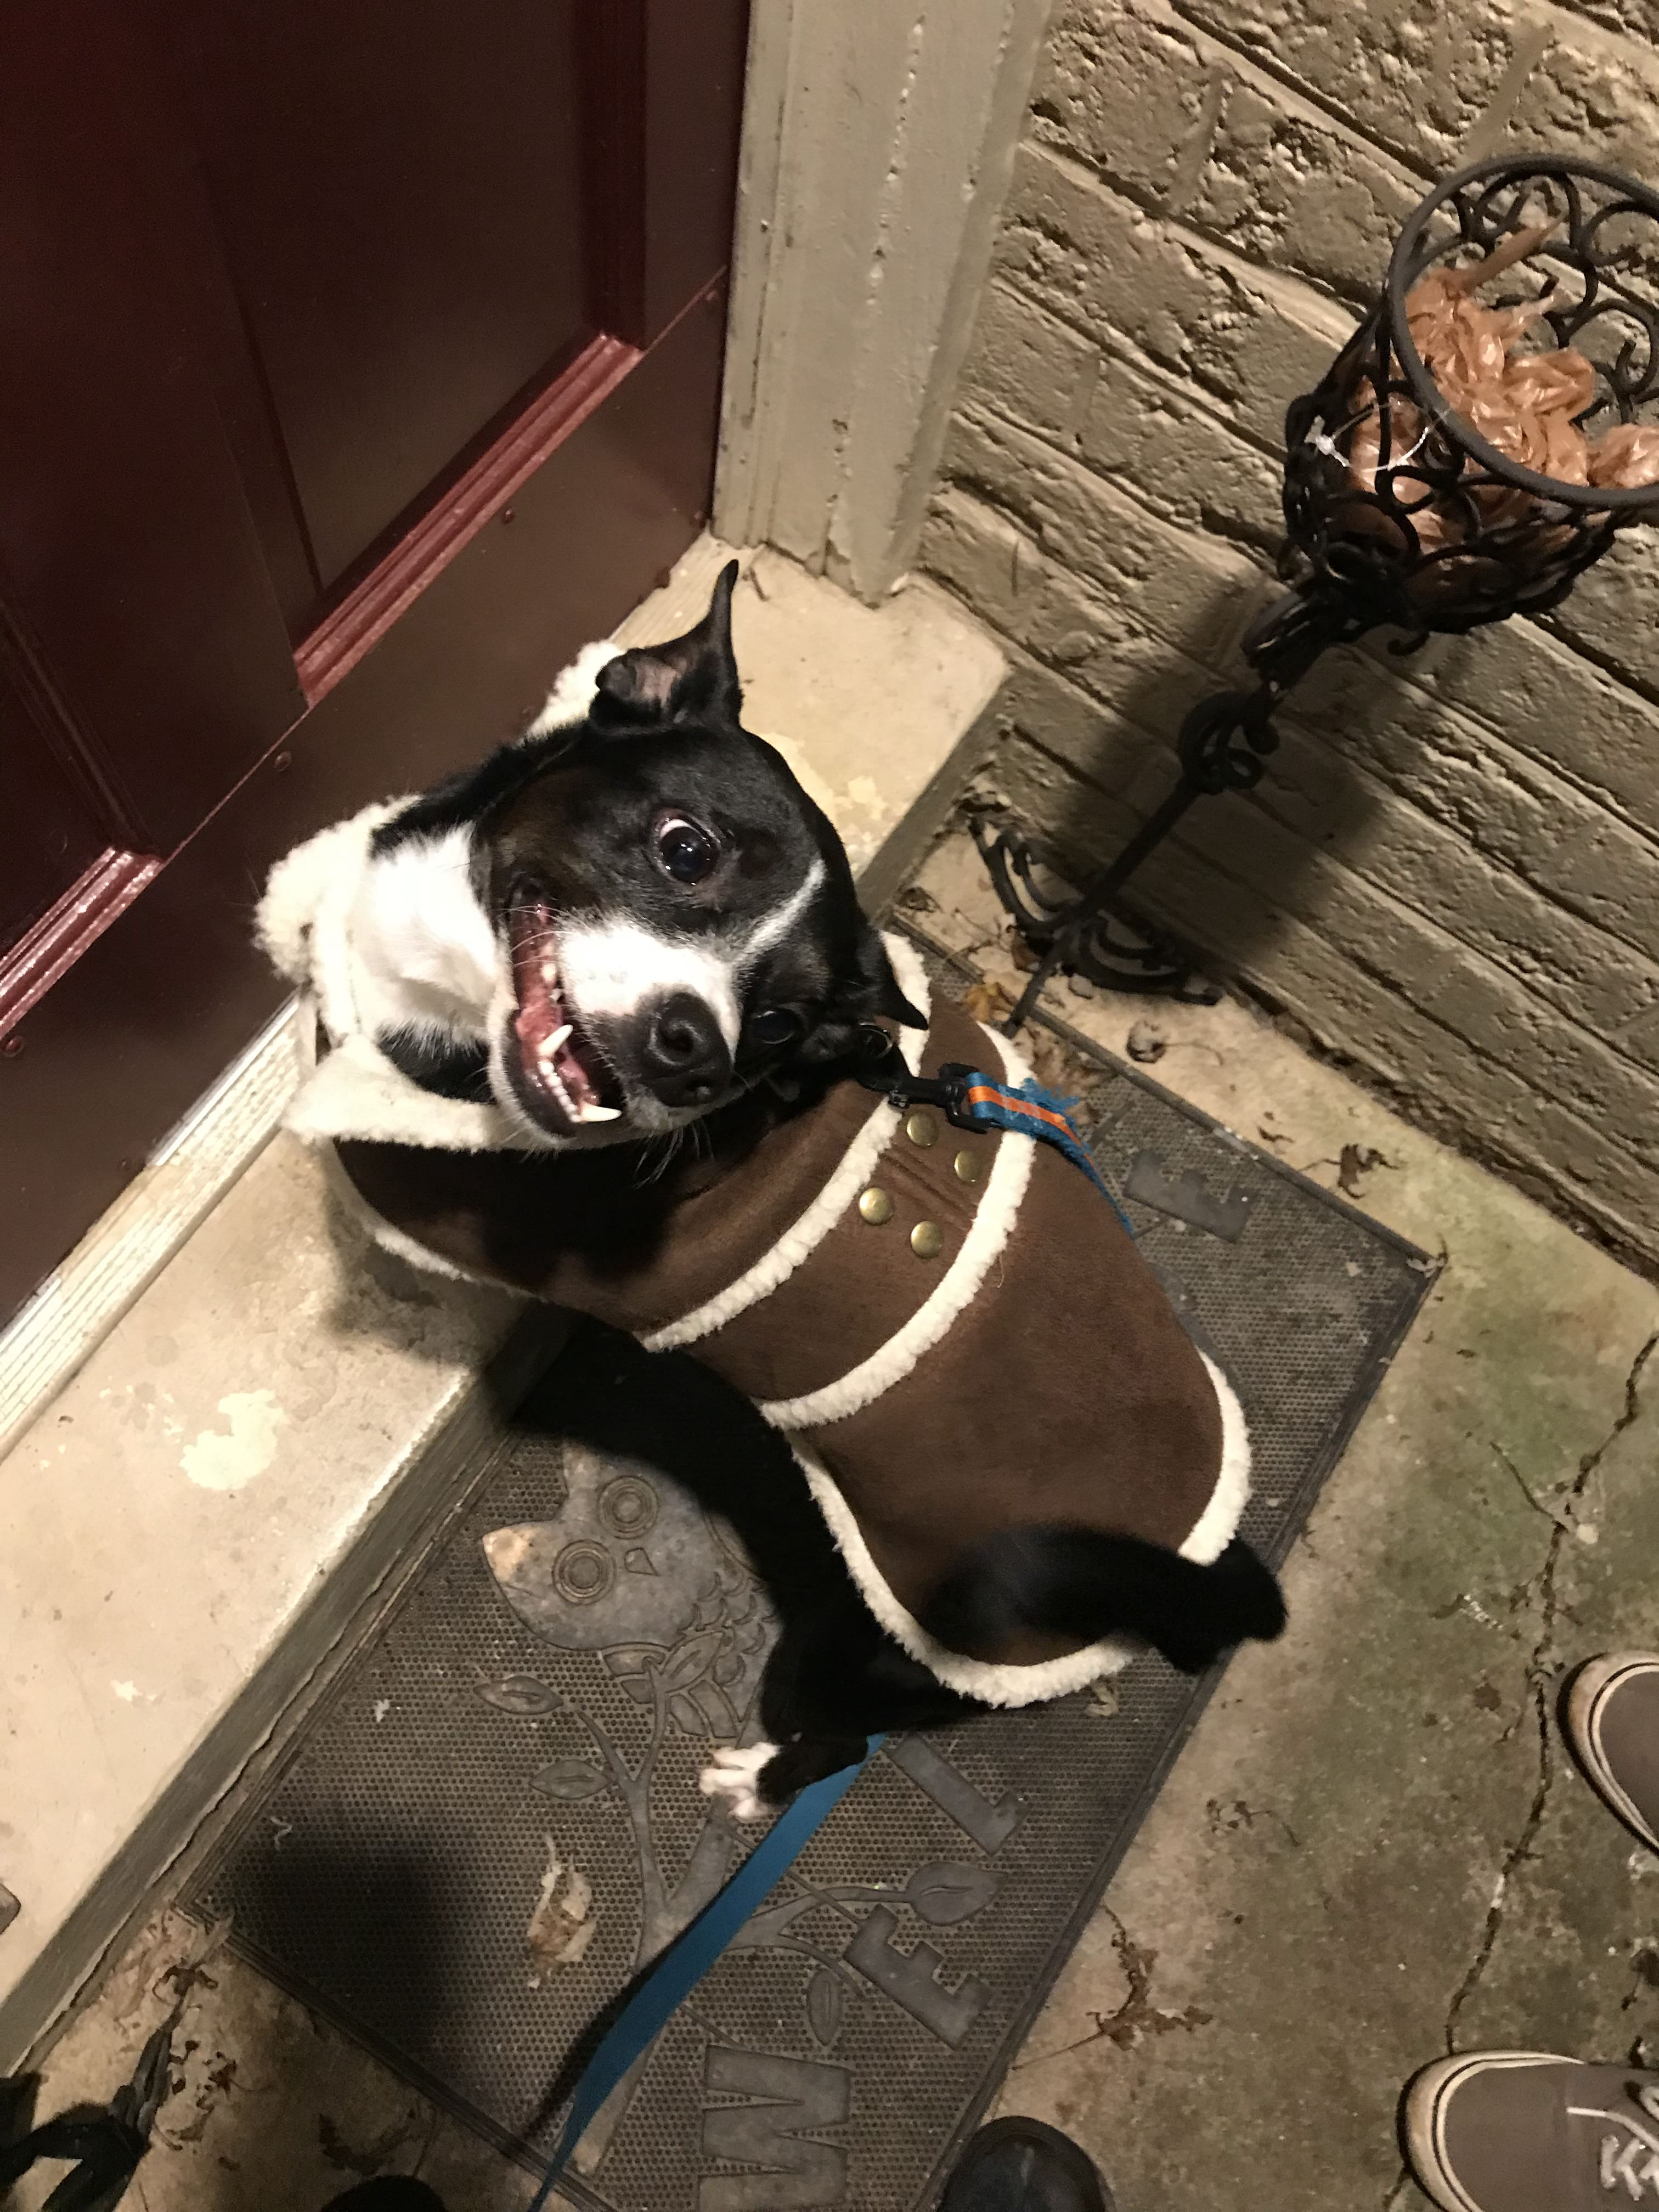Harley: (246, 547, 1351, 1831)
